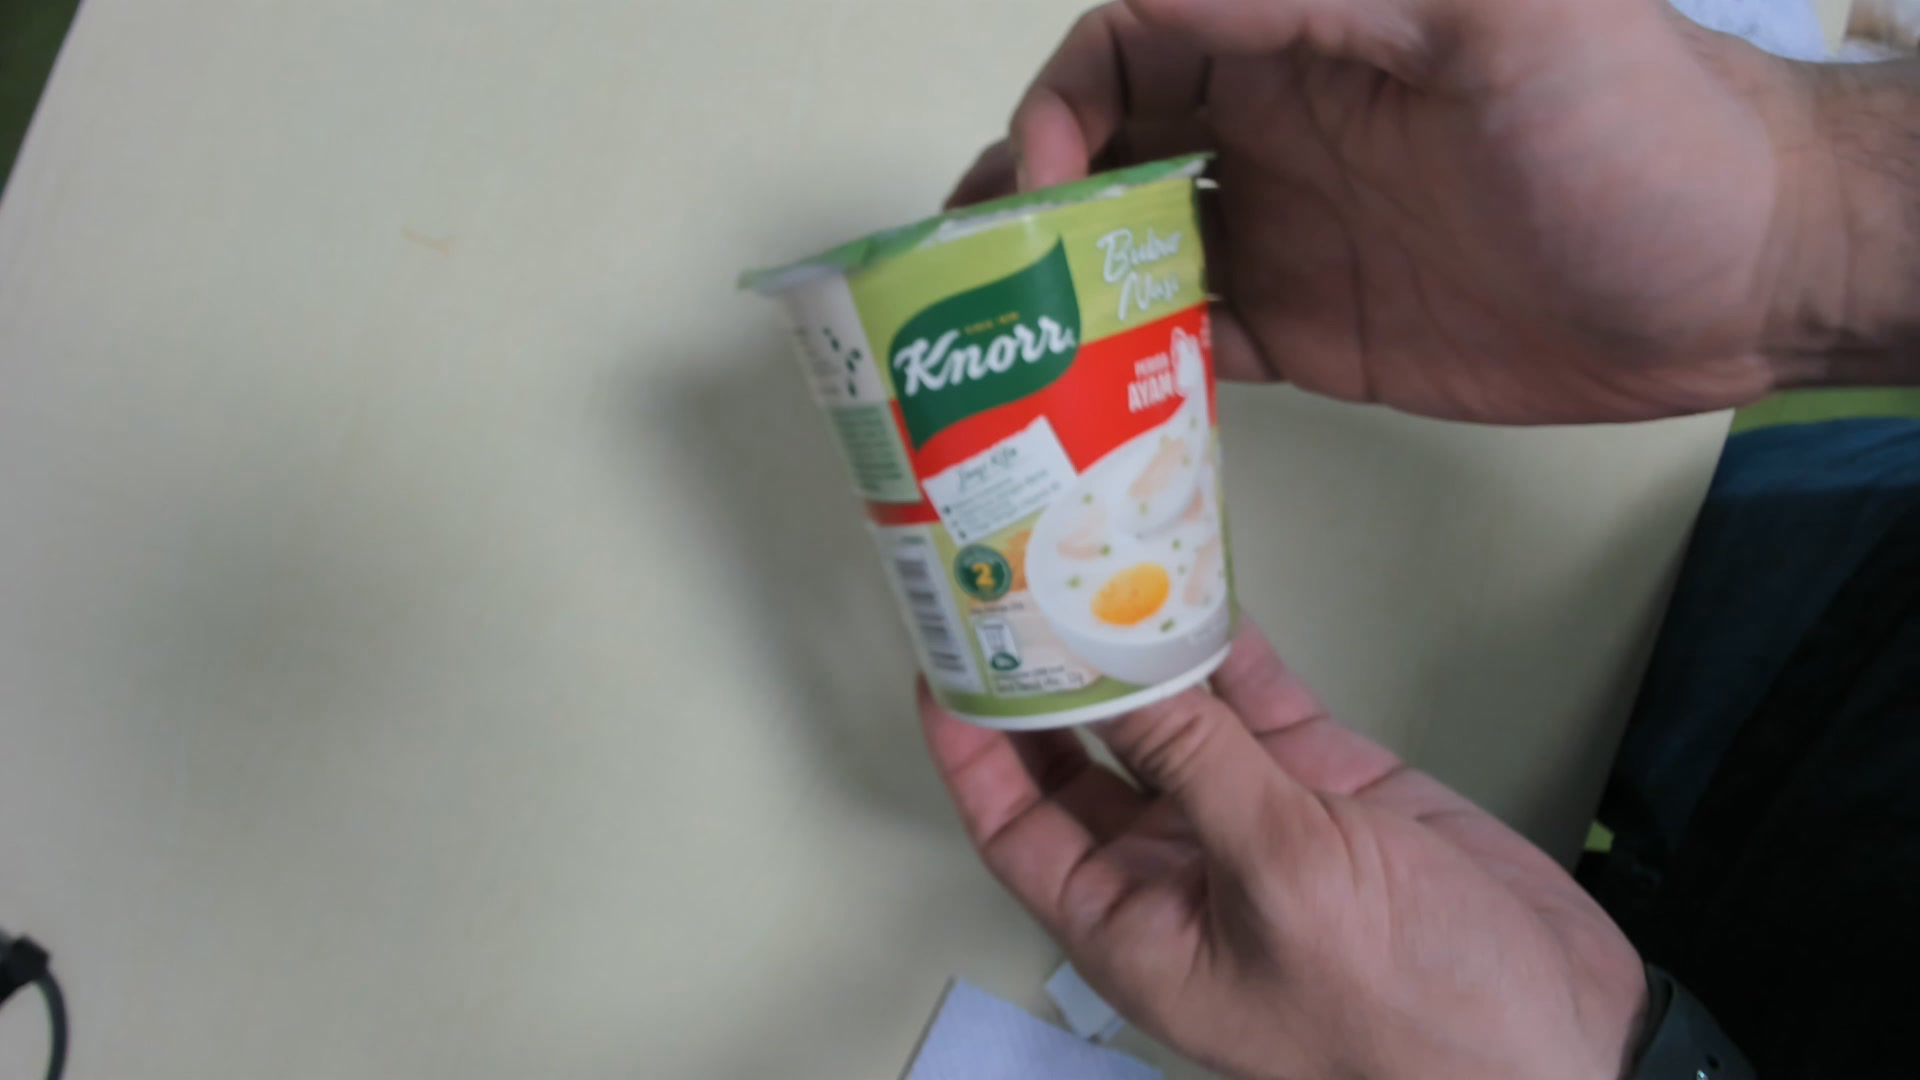InstantMeals_100-199g_Halal_NonHealthy: (735, 145, 1247, 735)
